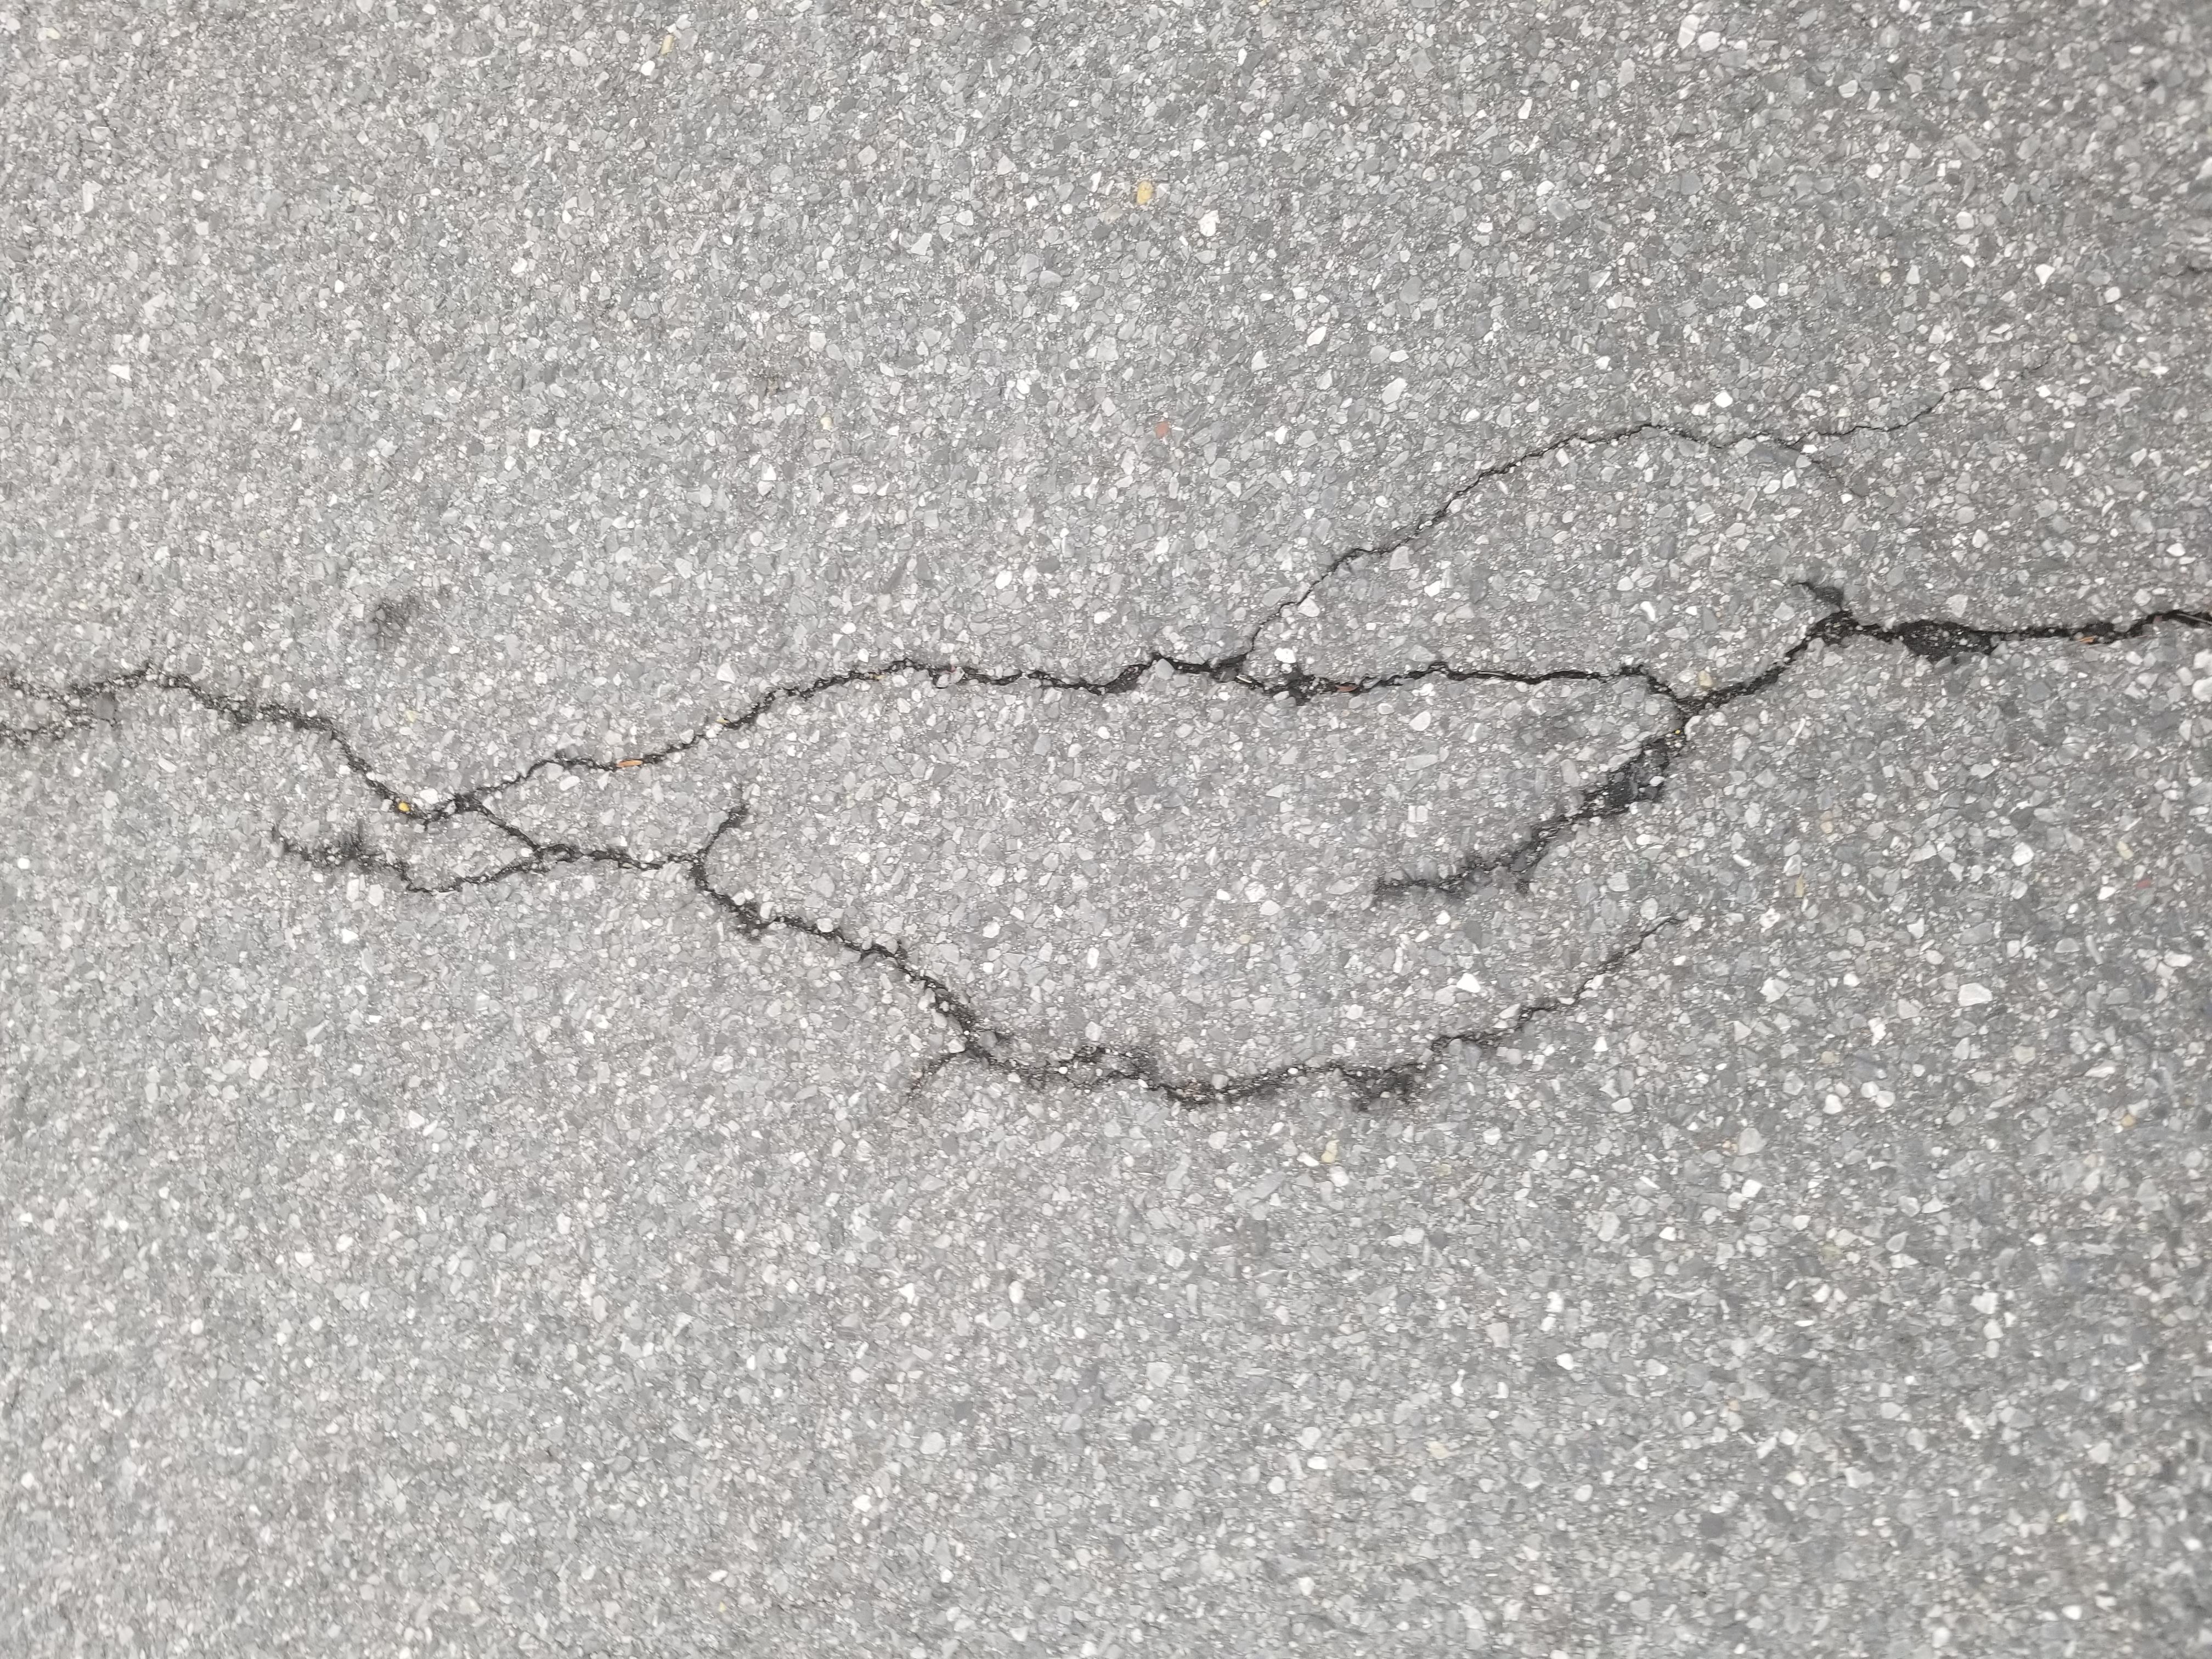crack: (674, 5, 1578, 1659)
